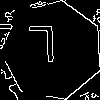L: (27, 25, 57, 73)
